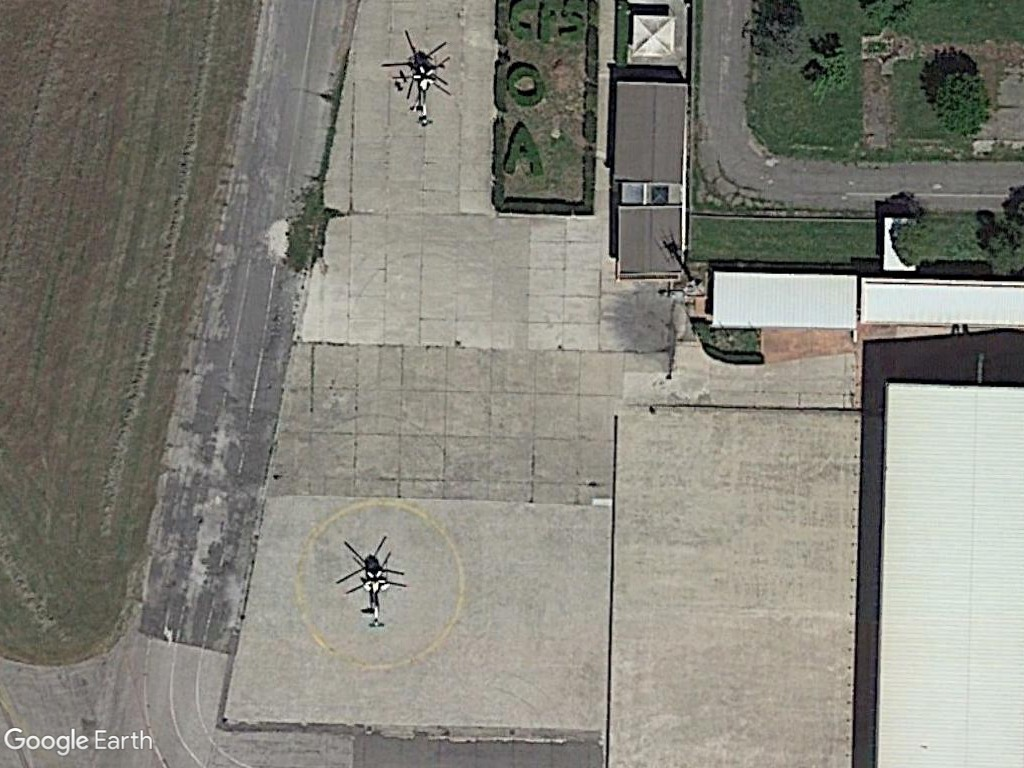helicopter: (378, 27, 461, 134), (339, 536, 412, 634)
